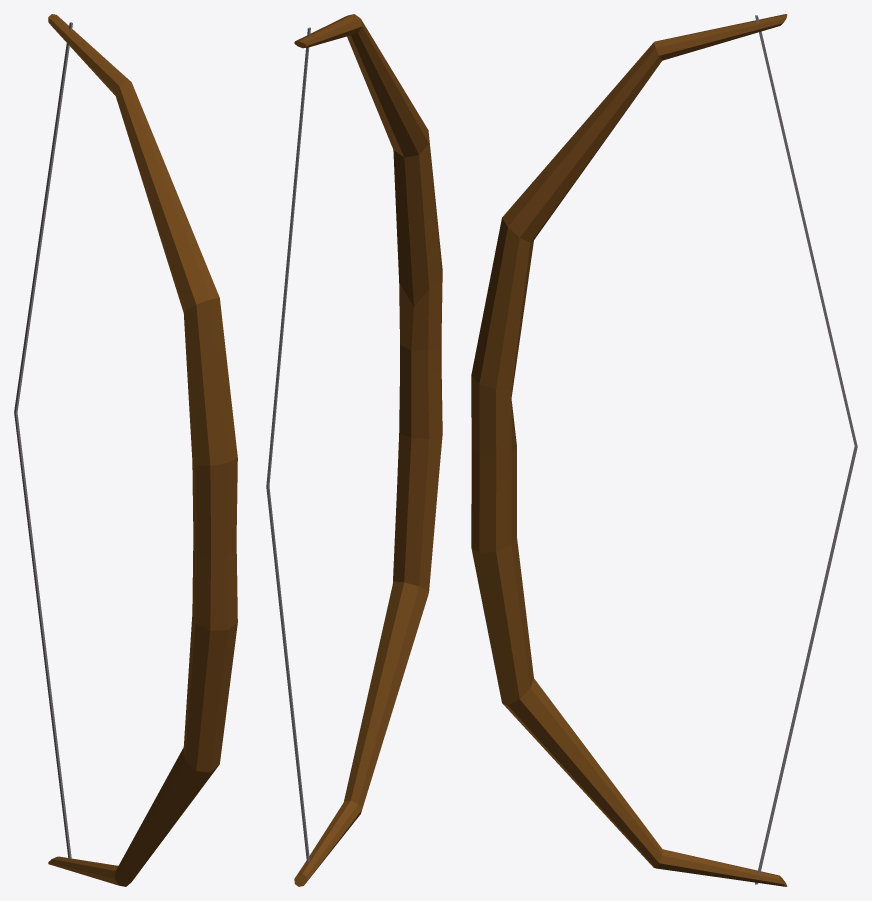
The model's file is Bow.fbx.
The picture shows the model from 3 angles, left to right: view 1: azimuth 30°, elevation 25°; view 2: azimuth 150°, elevation 25°; view 3: azimuth 270°, elevation 25°; orthographic projection. The views are drawn at different scales.
Parts seen in each view (by area): view 1: Bow; view 2: Bow; view 3: Bow.
Part boxes in pixels (<box>): Bow: <box>14,14,237,886</box>; Bow: <box>266,14,442,886</box>; Bow: <box>471,14,857,886</box>.
Bounding box in the file's own units: 5.04 × 88.04 × 35.33.
